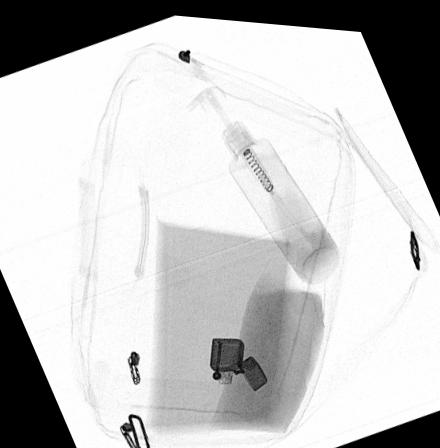Lighter: (208, 333, 267, 386)
